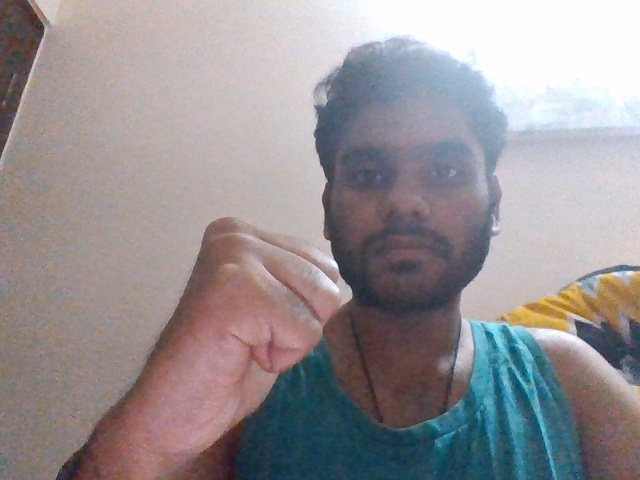yes: (118, 208, 348, 459)
